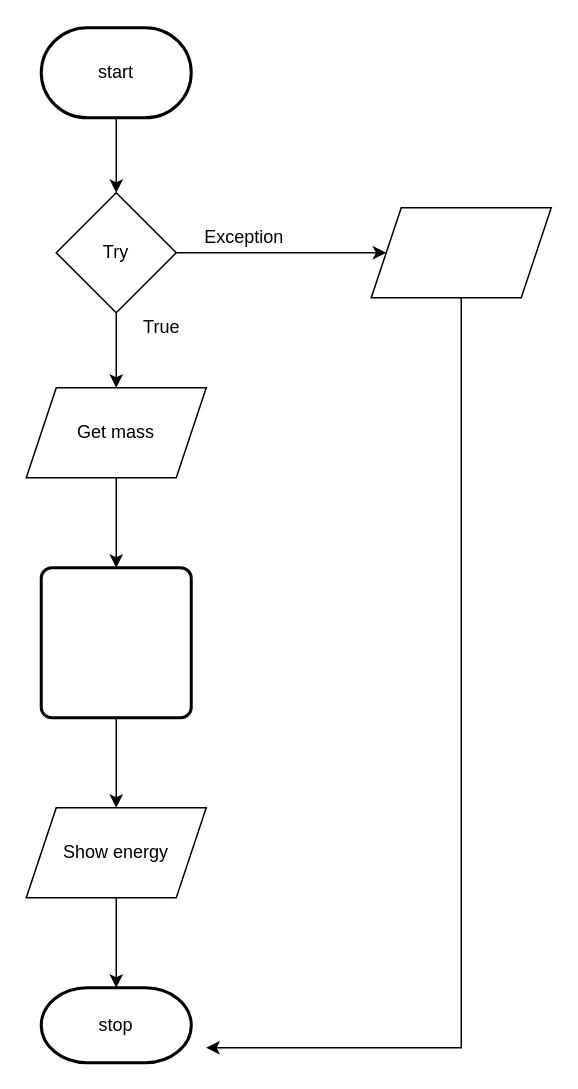
This 578x1089 diagram has some shape labels left out. Here are the shapes that lost their labels. From the top down, the box of each, then its label:
(370, 206, 551, 298): Invalid Input
(39, 566, 192, 718): e = mc^2
